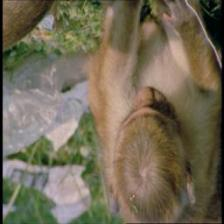monkey: (93, 83, 200, 217)
